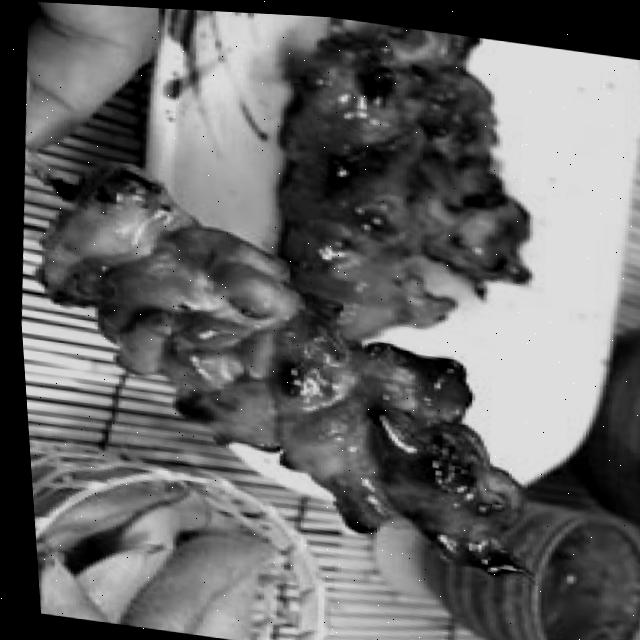烧串烤肉: (8, 145, 565, 591)
